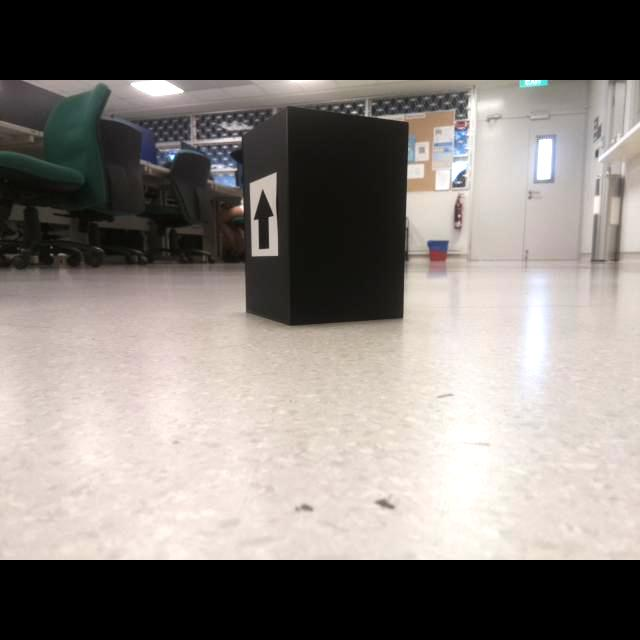UP: (252, 187, 275, 250)
